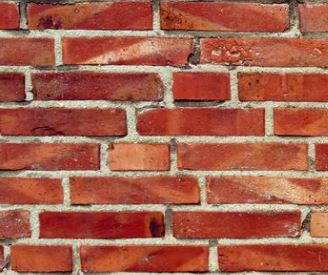brick: (60, 34, 195, 70), (67, 174, 202, 207), (29, 71, 165, 103), (159, 1, 293, 33), (176, 141, 311, 172), (199, 36, 328, 68), (78, 243, 211, 274), (24, 1, 154, 32), (172, 208, 302, 239), (137, 106, 266, 137), (1, 107, 126, 138), (207, 176, 328, 206), (37, 210, 166, 238), (215, 243, 328, 272), (1, 141, 101, 173), (236, 70, 328, 103), (169, 70, 232, 103), (109, 141, 172, 171), (12, 242, 72, 273), (272, 105, 328, 137), (1, 35, 55, 68), (1, 177, 63, 205), (297, 3, 328, 34), (1, 71, 25, 102)
